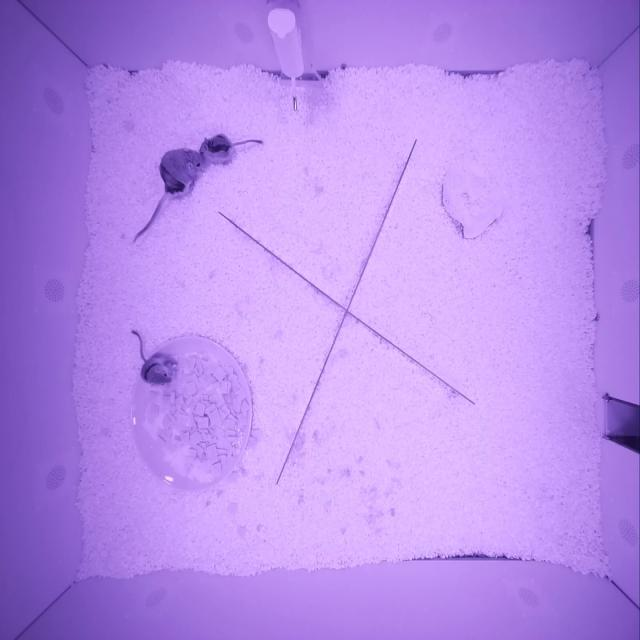adult_back: (159, 148, 205, 193)
pup_h_stripe: (141, 356, 177, 386)
pup_v_stripe: (199, 136, 230, 163)
